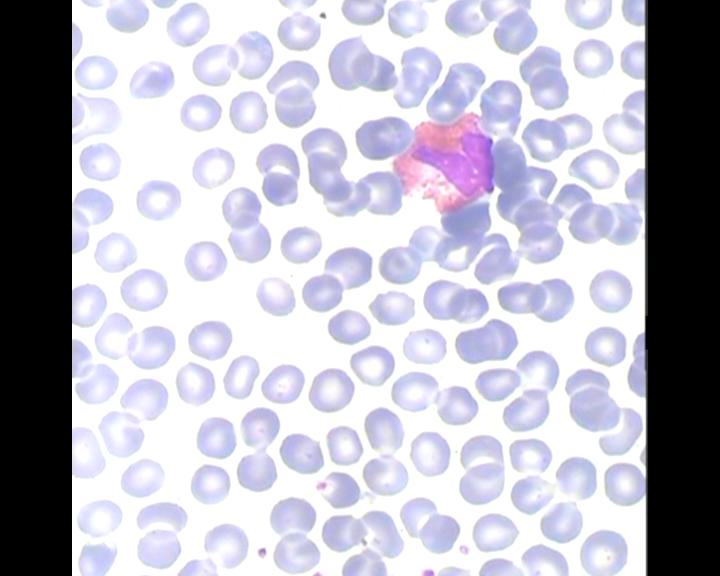eosi: (388, 104, 500, 217)
